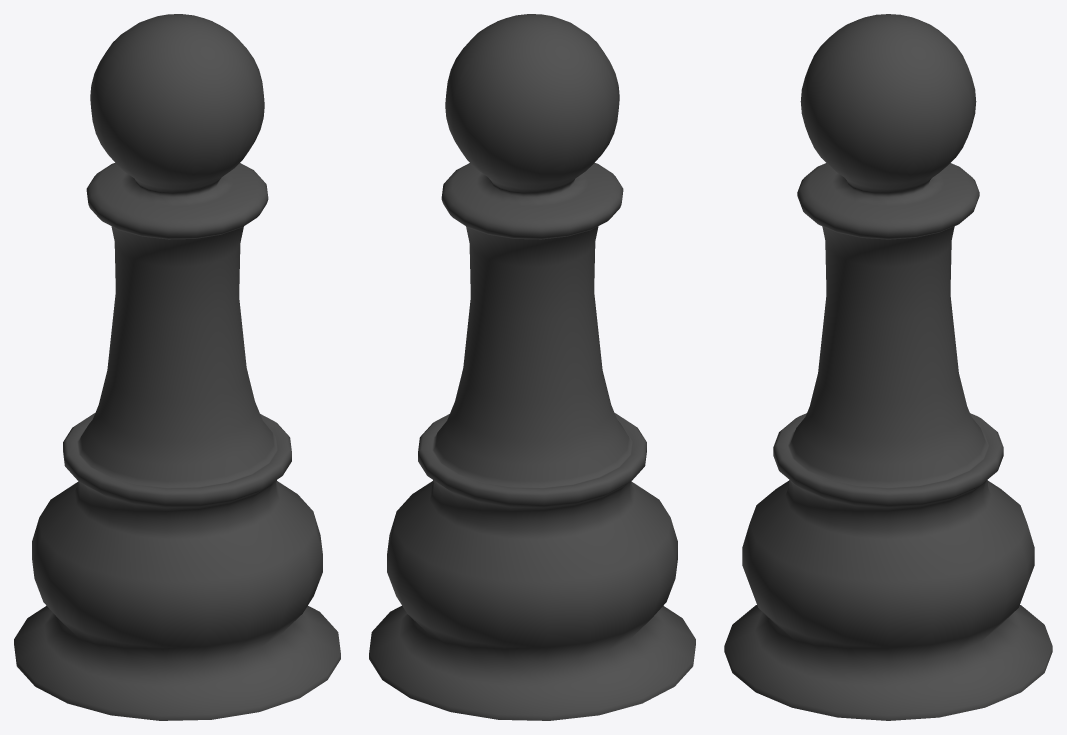
File: BlackPawn.obj
The picture shows the model from 3 angles, left to right: view 1: azimuth 30°, elevation 25°; view 2: azimuth 150°, elevation 25°; view 3: azimuth 270°, elevation 25°; orthographic projection.
Visible parts, largest first — view 1: Pawn1_Pawn1Shape; view 2: Pawn1_Pawn1Shape; view 3: Pawn1_Pawn1Shape.
Part boxes in pixels (x1,y1,x2,y2): Pawn1_Pawn1Shape: (14,14,340,720); Pawn1_Pawn1Shape: (369,14,695,720); Pawn1_Pawn1Shape: (724,14,1052,720).
Bounding box in the file's own units: 0.8131 × 1.72 × 0.8131.
1 material, 1 textured.
